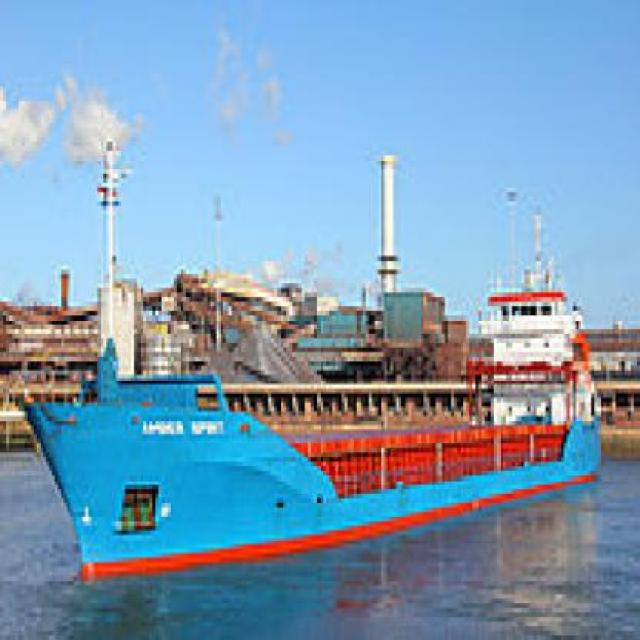container: (7, 193, 613, 591)
